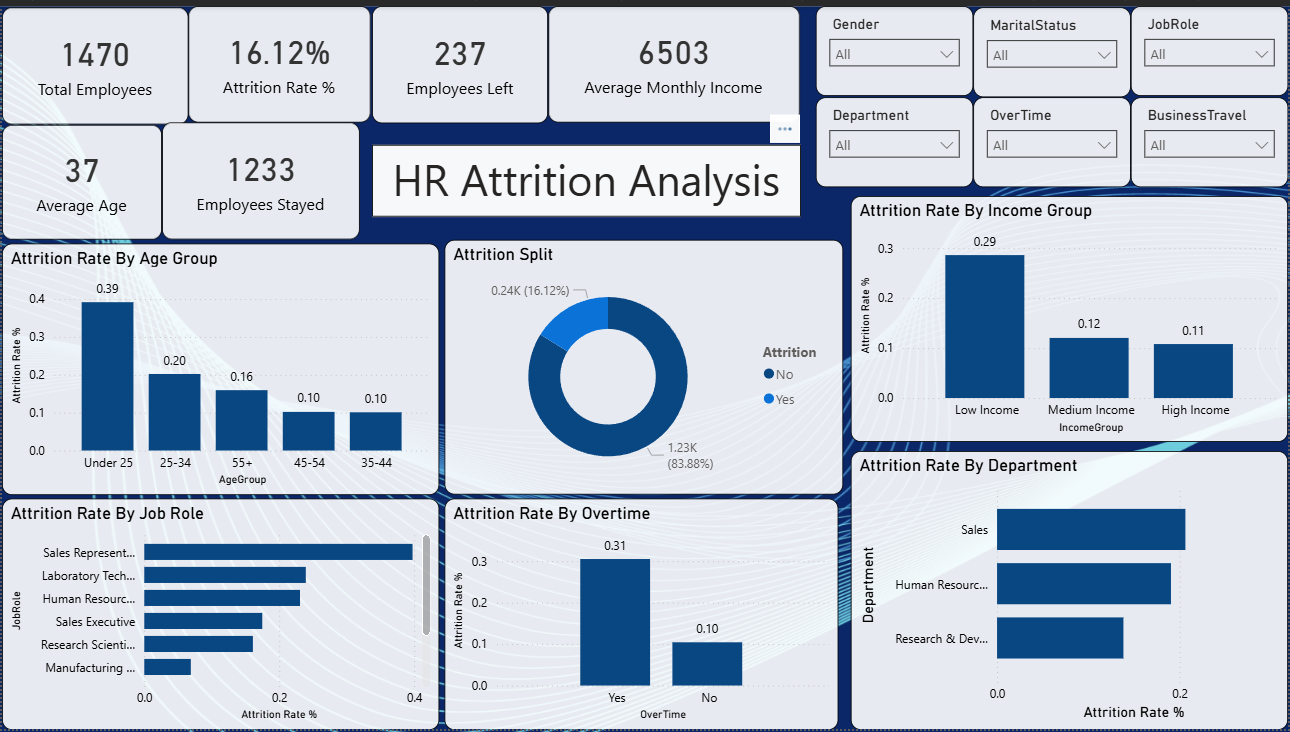

The page's visual inventory and layout, read from the dashboard file:
{"tool":"powerbi","page":{"name":"Page 1","canvas":[1280,720],"ordinal":0},"visuals":[{"type":"advanceCardE03760C5AB684758B56AA29F9E6C257B","fields":{"mainMeasure":["cleaned version.Total Employees"]},"box":[0,1.2,185.3,116.9],"z":0},{"type":"advanceCardE03760C5AB684758B56AA29F9E6C257B","fields":{"mainMeasure":["cleaned version.Attrition Rate Card"]},"box":[185.3,0,181.6,115.7],"z":1000},{"type":"advanceCardE03760C5AB684758B56AA29F9E6C257B","fields":{"mainMeasure":["cleaned version.Average Age"]},"box":[0,118.2,159.2,114.4],"z":2000},{"type":"advanceCardE03760C5AB684758B56AA29F9E6C257B","fields":{"mainMeasure":["cleaned version.Average Monthly Income"]},"box":[543.6,0,250,115.7],"z":3000},{"type":"advanceCardE03760C5AB684758B56AA29F9E6C257B","fields":{"mainMeasure":["cleaned version.Employees Left"]},"box":[368.2,0,175.4,116.9],"z":4000},{"type":"advanceCardE03760C5AB684758B56AA29F9E6C257B","fields":{"mainMeasure":["cleaned version.Employees Stayed"]},"box":[159.2,115.7,196.5,116.9],"z":5000},{"type":"donutChart","title":"Attrition Split","fields":{"Category":["cleaned version.Attrition"],"Y":["CountNonNull(cleaned version.EmployeeNumber)"]},"box":[440.4,232.6,396.8,253.8],"z":6000},{"type":"clusteredBarChart","title":" Attrition Rate By Department","fields":{"Category":["cleaned version.Department"],"Y":["cleaned version.Attrition Rate %"]},"box":[844.6,442.8,435.4,277.4],"z":7000},{"type":"clusteredColumnChart","title":" Attrition Rate By Overtime","fields":{"Y":["cleaned version.Attrition Rate %"],"Category":["cleaned version.OverTime"]},"box":[440.4,490.1,391.8,230.1],"z":8000},{"type":"clusteredColumnChart","title":"Attrition Rate By Income Group","fields":{"Y":["cleaned version.Attrition Rate %"],"Category":["cleaned version.IncomeGroup"]},"box":[844.6,189.1,435.4,245.1],"z":9000},{"type":"clusteredBarChart","title":"Attrition Rate By Job Role","fields":{"Y":["cleaned version.Attrition Rate %"],"Category":["cleaned version.JobRole"]},"box":[0,490.1,435.4,230.1],"z":10000},{"type":"clusteredColumnChart","title":"Attrition Rate By Age Group","fields":{"Y":["cleaned version.Attrition Rate %"],"Category":["cleaned version.AgeGroup"]},"box":[0,236.4,435.4,250],"z":11000},{"type":"slicer","title":"Attrition Rate By Age Group","fields":{"Values":["cleaned version.Department"]},"box":[809.8,90.8,156.7,89.6],"z":12000},{"type":"slicer","title":"Attrition Rate By Age Group","fields":{"Values":["cleaned version.Gender"]},"box":[809.8,0,156.7,89.6],"z":13000},{"type":"slicer","title":"Attrition Rate By Age Group","fields":{"Values":["cleaned version.OverTime"]},"box":[966.6,90.8,156.7,89.6],"z":14000},{"type":"slicer","title":"Attrition Rate By Age Group","fields":{"Values":["cleaned version.JobRole"]},"box":[1123.3,0,156.7,89.6],"z":15000},{"type":"slicer","title":"Attrition Rate By Age Group","fields":{"Values":["cleaned version.MaritalStatus"]},"box":[966.6,1.2,156.7,89.6],"z":16000},{"type":"slicer","title":"Attrition Rate By Age Group","fields":{"Values":["cleaned version.BusinessTravel"]},"box":[1123.3,90.8,156.7,89.6],"z":17000},{"type":"textbox","box":[368.2,138.1,426.7,72.1],"z":18000}]}

Visuals, with their boxes in screenshot pixels (x1, y1, x2, y2), scaled from the page's 1280x720 canvas onto the 1290x732 screenshot:
advanceCardE03760C5AB684758B56AA29F9E6C257B - cleaned version.Total Employees: <box>0,1,187,120</box>
advanceCardE03760C5AB684758B56AA29F9E6C257B - cleaned version.Attrition Rate Card: <box>187,0,370,118</box>
advanceCardE03760C5AB684758B56AA29F9E6C257B - cleaned version.Average Age: <box>0,120,160,236</box>
advanceCardE03760C5AB684758B56AA29F9E6C257B - cleaned version.Average Monthly Income: <box>548,0,800,118</box>
advanceCardE03760C5AB684758B56AA29F9E6C257B - cleaned version.Employees Left: <box>371,0,548,119</box>
advanceCardE03760C5AB684758B56AA29F9E6C257B - cleaned version.Employees Stayed: <box>160,118,358,236</box>
"Attrition Split" donutChart: <box>444,236,844,495</box>
" Attrition Rate By Department" clusteredBarChart: <box>851,450,1289,731</box>
" Attrition Rate By Overtime" clusteredColumnChart: <box>444,498,839,731</box>
"Attrition Rate By Income Group" clusteredColumnChart: <box>851,192,1289,441</box>
"Attrition Rate By Job Role" clusteredBarChart: <box>0,498,439,731</box>
"Attrition Rate By Age Group" clusteredColumnChart: <box>0,240,439,495</box>
"Attrition Rate By Age Group" slicer: <box>816,92,974,183</box>
"Attrition Rate By Age Group" slicer: <box>816,0,974,91</box>
"Attrition Rate By Age Group" slicer: <box>974,92,1132,183</box>
"Attrition Rate By Age Group" slicer: <box>1132,0,1289,91</box>
"Attrition Rate By Age Group" slicer: <box>974,1,1132,92</box>
"Attrition Rate By Age Group" slicer: <box>1132,92,1289,183</box>
textbox: <box>371,140,801,214</box>
